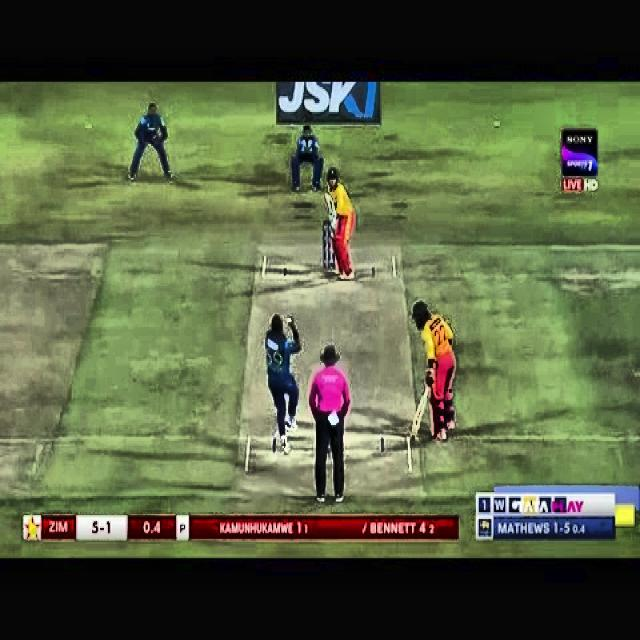Left-stump: (324, 222, 326, 268)
Middle-stump: (328, 224, 331, 268)
Right-stump: (332, 250, 335, 267)
